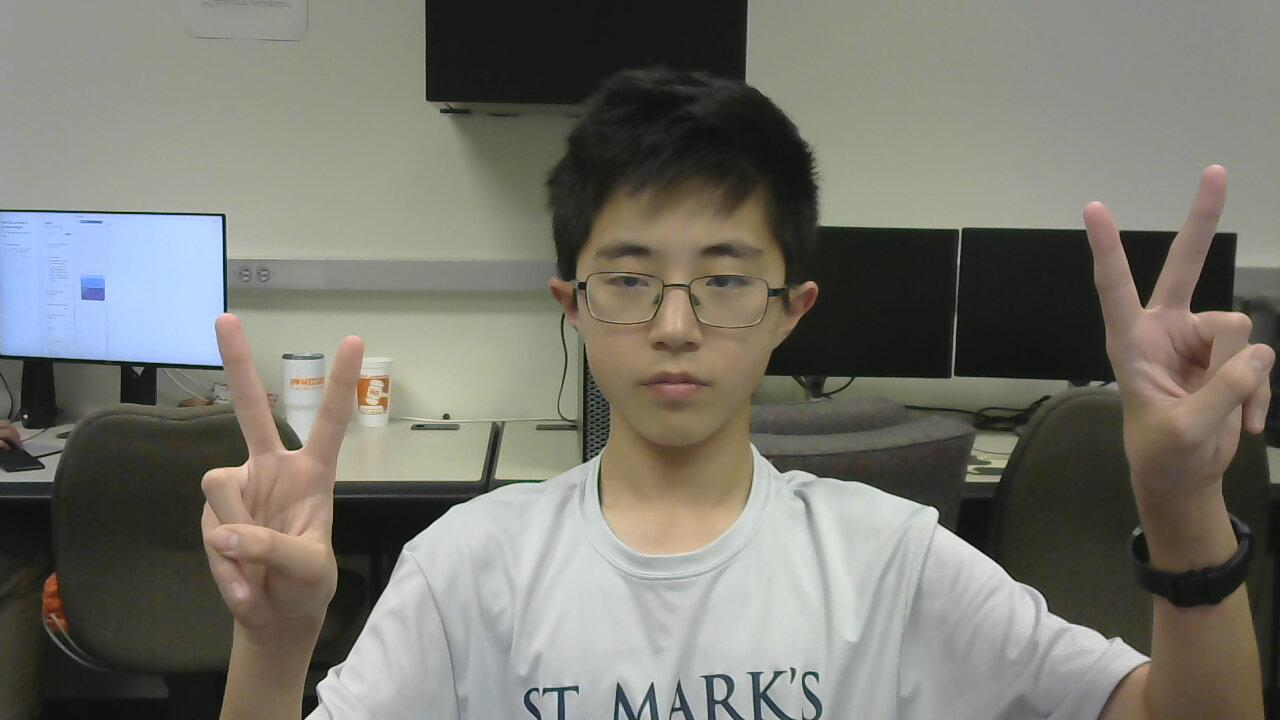peace: (1076, 152, 1269, 518), (186, 297, 352, 638)
